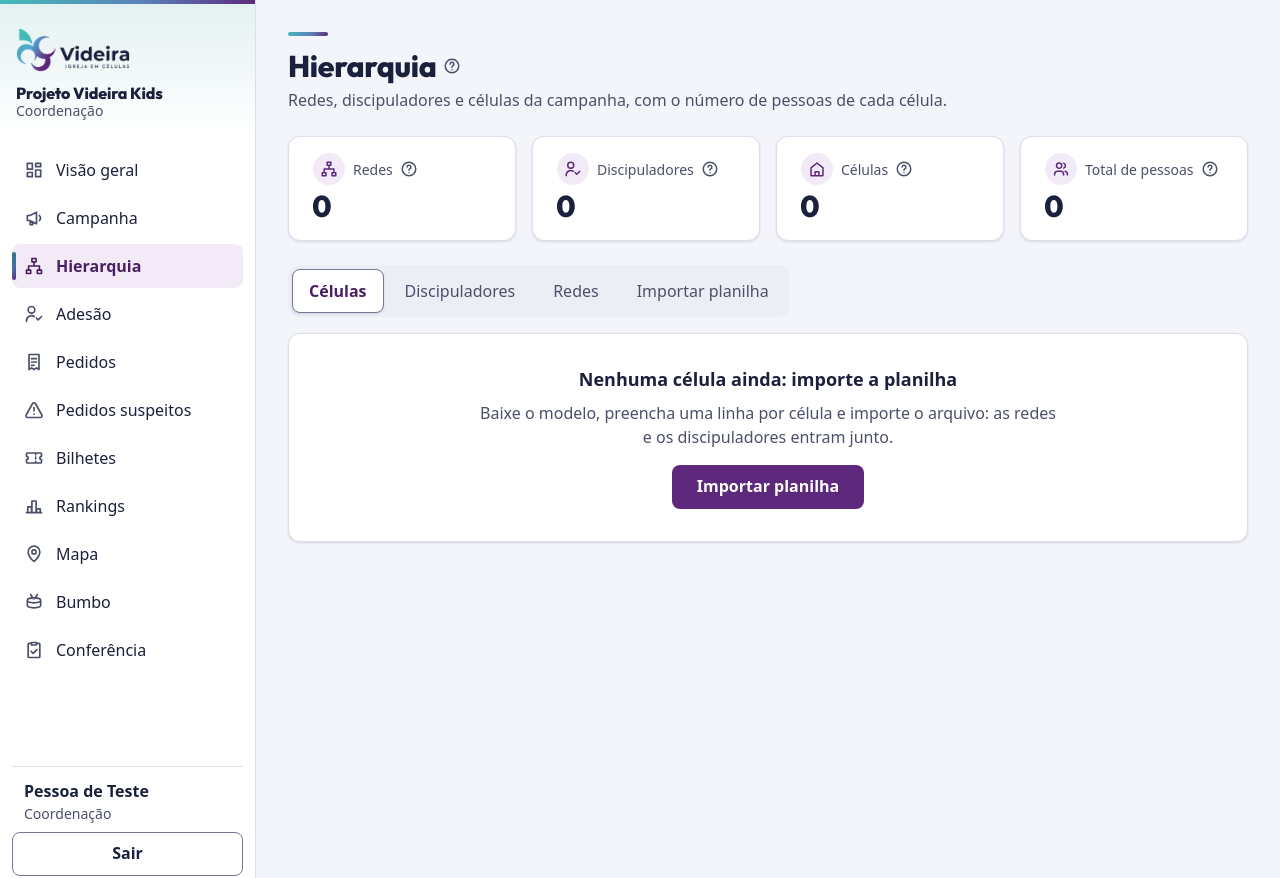
Test: CA1: visão da hierarquia › sem células, mostra o estado vazio que leva à importação
The width and height of the screenshot is (1280, 878).
Expected: the element named "Resumo" is shown, x1=288 y1=136 x2=1248 y2=240
Expected: the text "Nenhuma célula ainda: importe a planilha" is shown, x1=579 y1=366 x2=957 y2=392
Click the button "Importar planilha" at (768, 486), box x1=672 y1=464 x2=864 y2=508
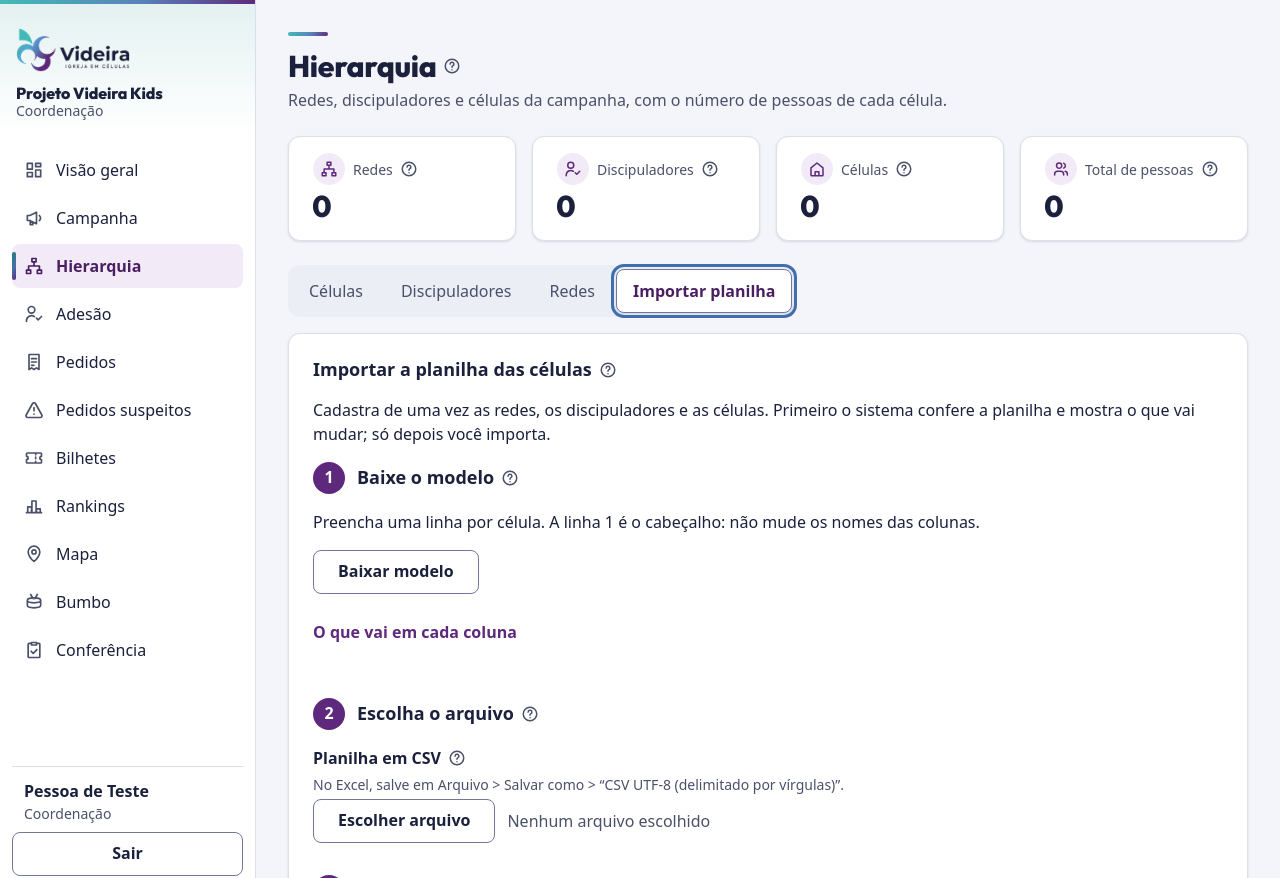
Expected: the heading "Importar a planilha das células" is shown, x1=313 y1=359 x2=592 y2=380
